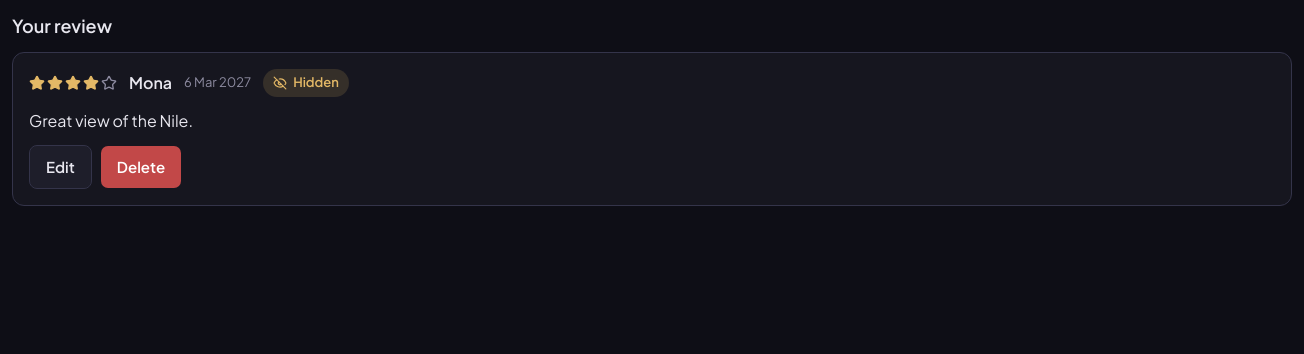
after saving, the card shows the review returned by the backend right away
Click the button "Edit" at {"x": 60, "y": 167}, box [29,145,92,189]
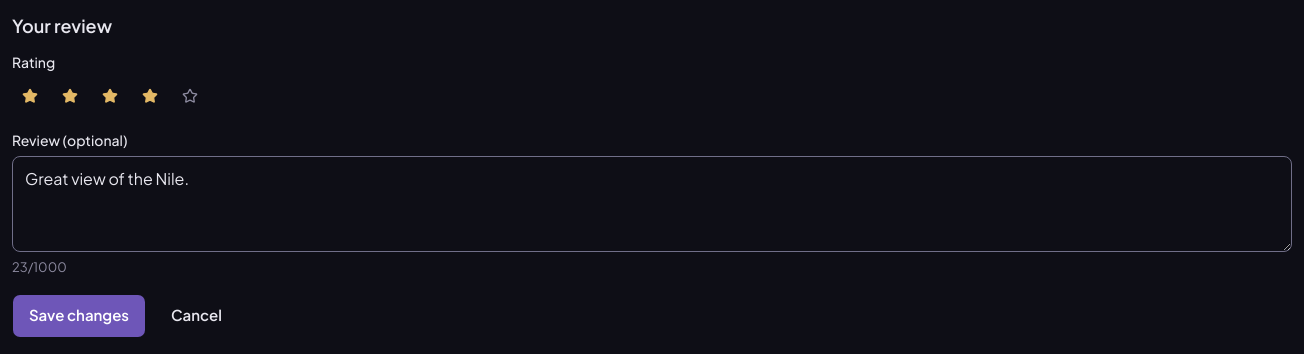
Click the radio button named "2 stars" at {"x": 70, "y": 96}, box [62,88,78,104]
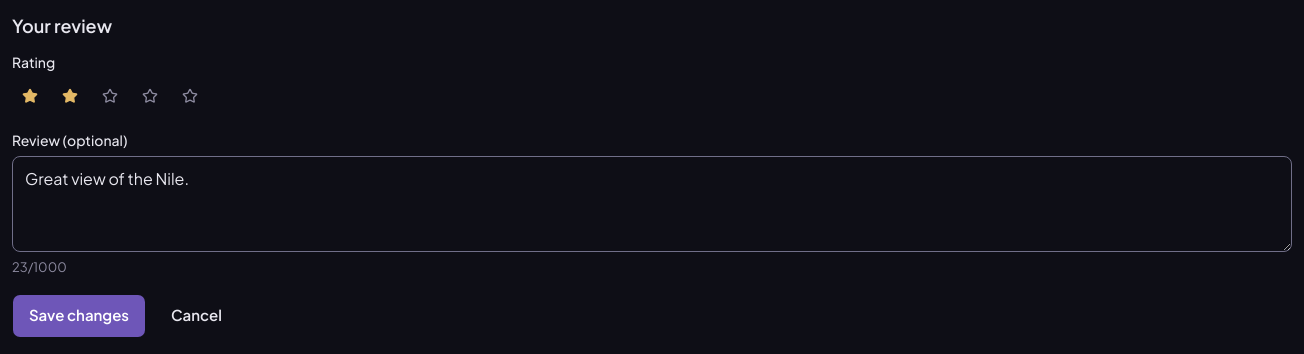
Replace the text in the text box labelled "Review (optional)" with "Noisy at night." at {"x": 652, "y": 204}, box [12,156,1292,252]
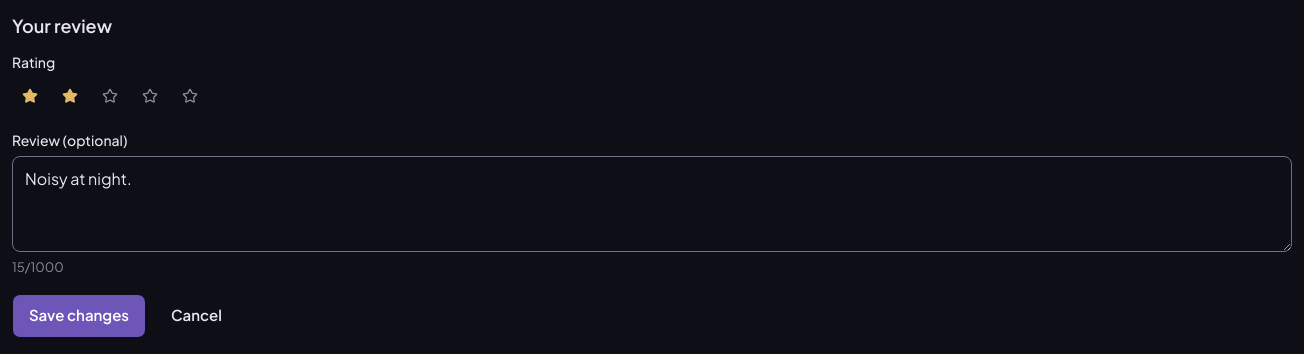
Click the button "Save changes" at {"x": 79, "y": 316}, box [12,294,146,338]
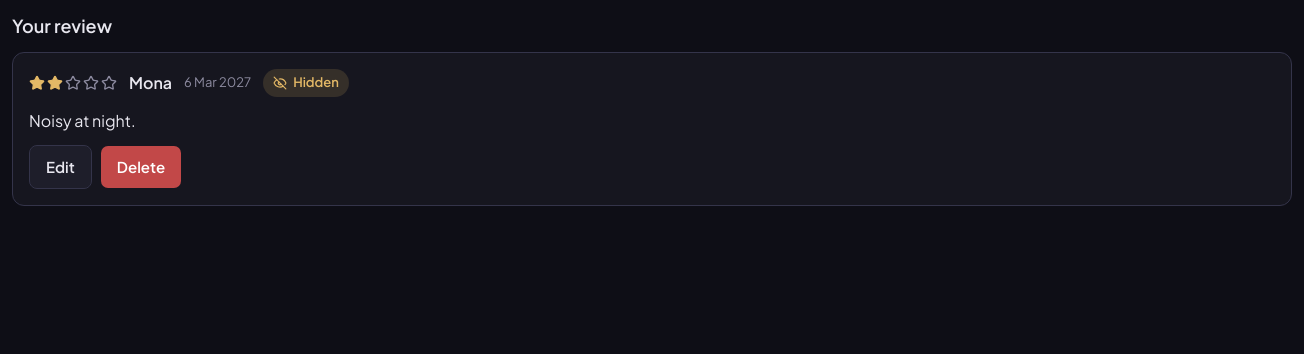
Expected: the text "Great view of the Nile." is not shown
Result: the picture named "Rated 2 out of 5" is shown at [29,75,117,91]
Result: the element showing "Mona 6 Mar 2027 Hidden Noisy at night. Edit Delete" is shown at [12,52,1292,206]
